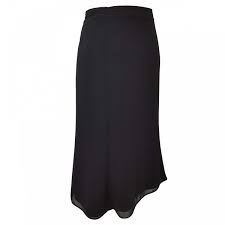S_skirt: (65, 1, 172, 223)
